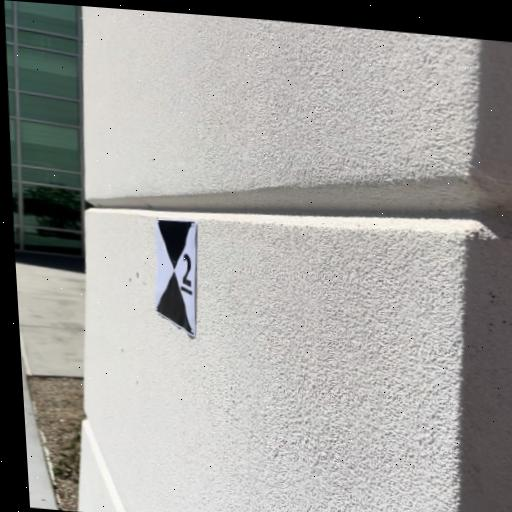target2: (152, 219, 197, 338)
